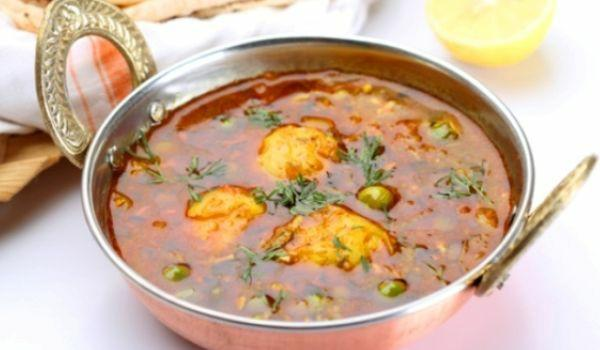DumAloo: (107, 67, 513, 323)
